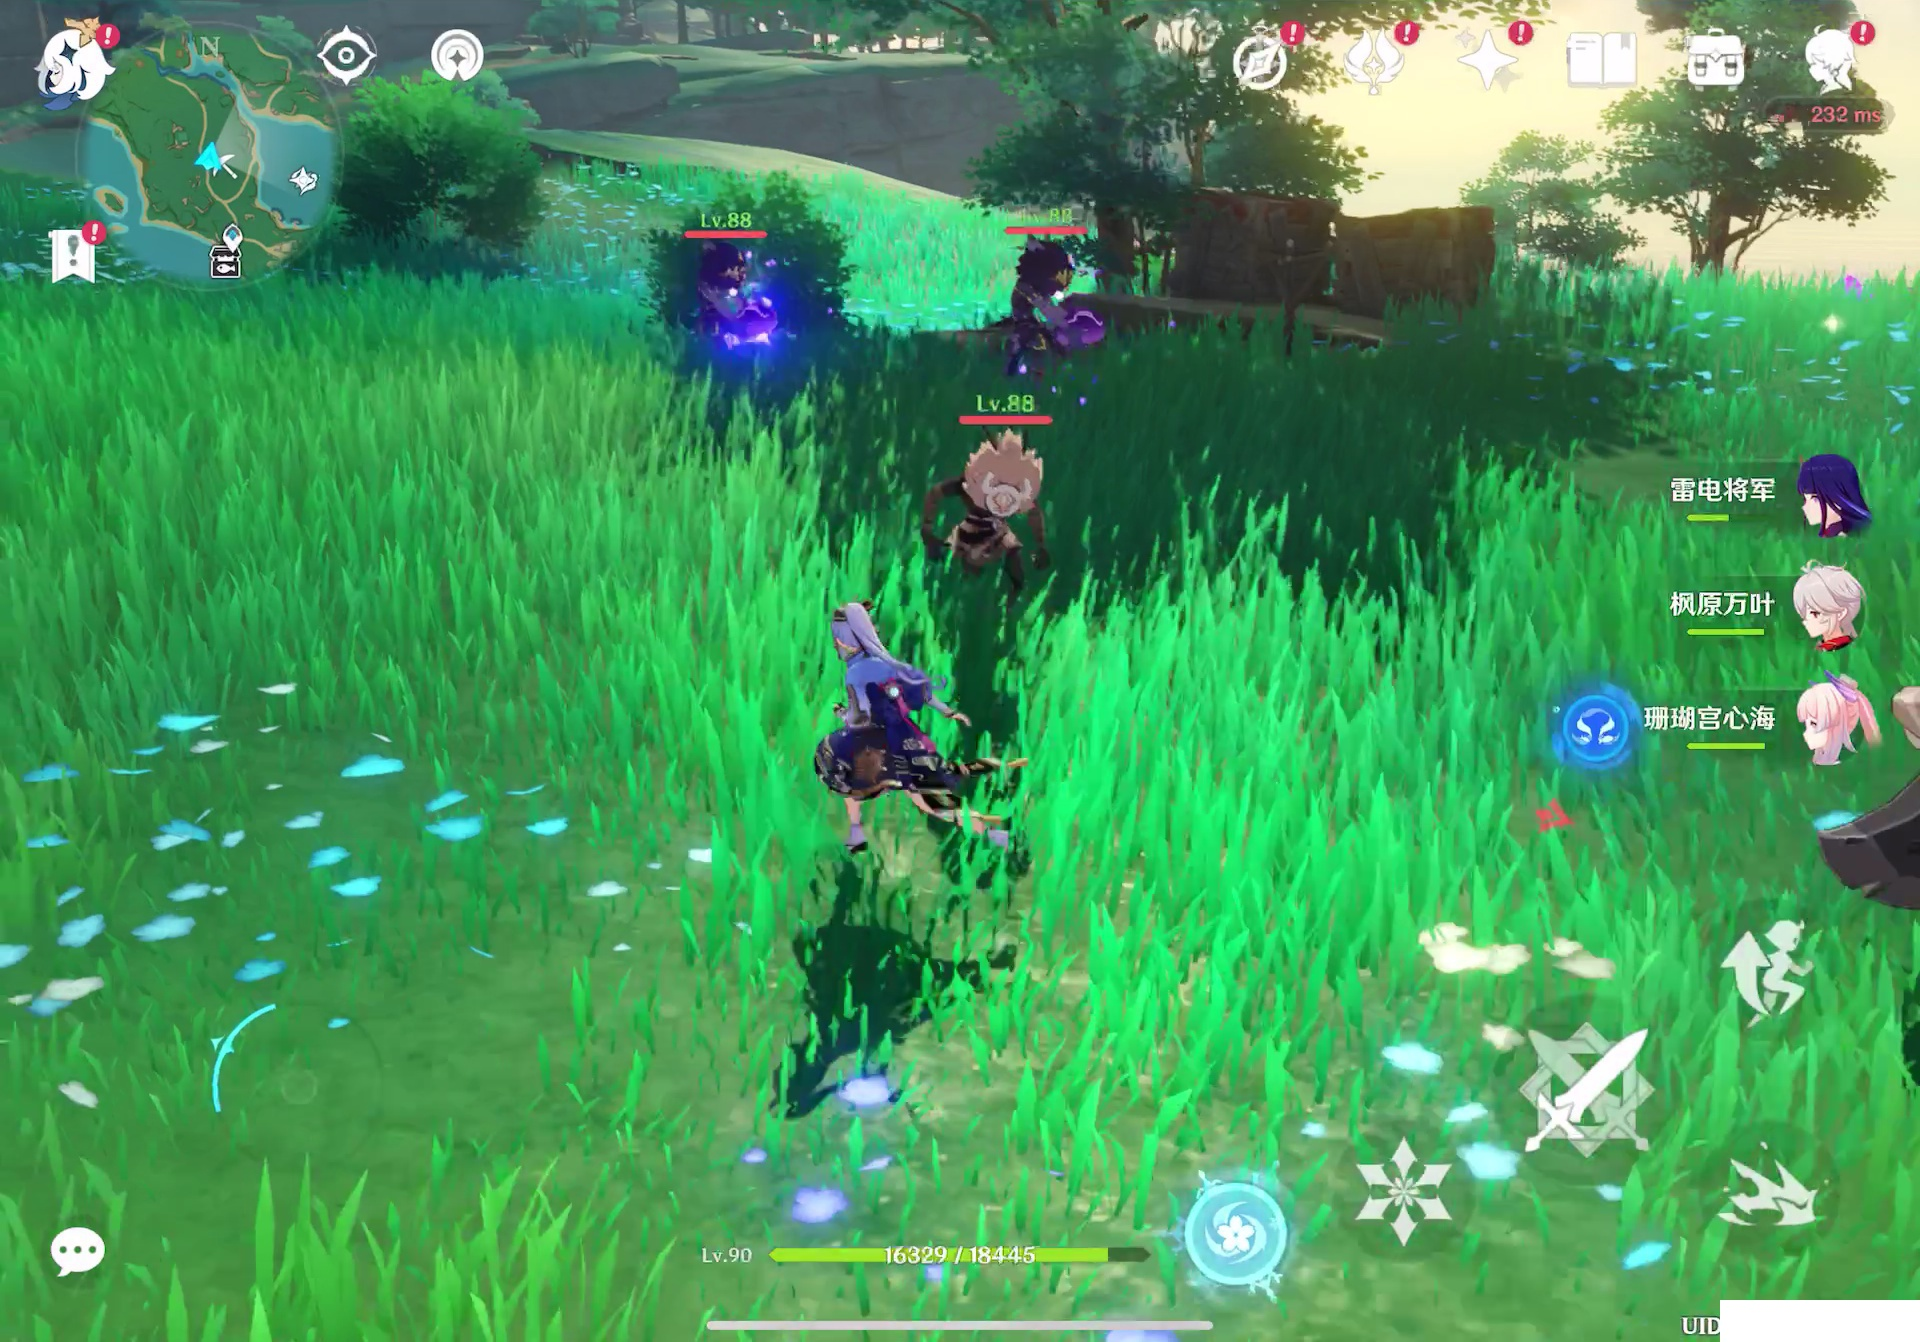丘丘人: (935, 429, 1059, 594), (1004, 241, 1119, 373), (681, 247, 804, 366)
神里绫龟: (805, 589, 978, 853)
